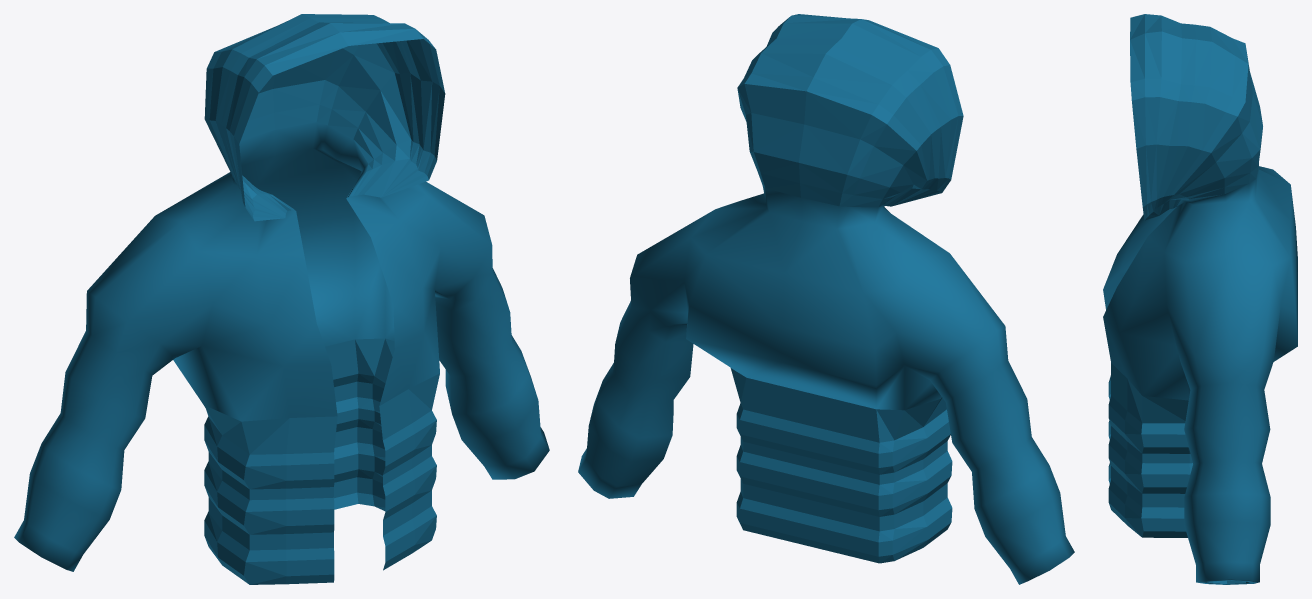
The model's file is manteau.dae.
3 renders of one model, left to right at view 1: azimuth 30°, elevation 25°; view 2: azimuth 150°, elevation 25°; view 3: azimuth 270°, elevation 25°, orthographic. The views are drawn at different scales.
Parts seen in each view (by area): view 1: Cube.001; view 2: Cube.001; view 3: Cube.001.
Part boxes in pixels (x1,y1,x2,y2): Cube.001: (14, 14, 549, 584); Cube.001: (578, 14, 1074, 584); Cube.001: (1103, 14, 1297, 584).
Size of the model in its own units: 2.92 by 1.07 by 2.83.
